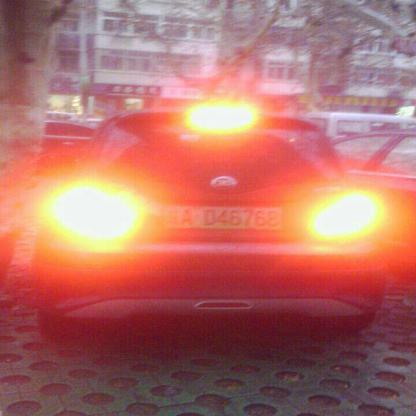lp: (163, 206, 281, 227)
